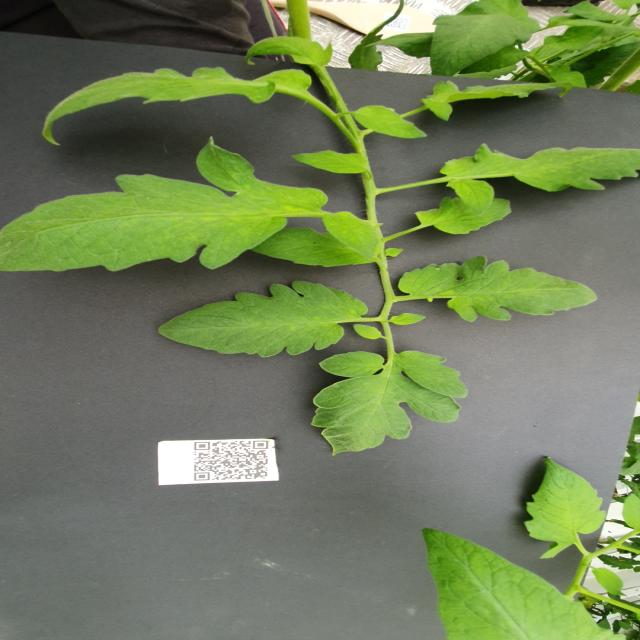Healthy Leaf: (423, 527, 628, 640), (43, 68, 315, 147), (158, 280, 370, 360), (312, 351, 470, 457), (440, 144, 640, 218), (399, 255, 601, 324), (526, 457, 608, 559), (431, 15, 540, 78), (420, 80, 573, 122), (415, 199, 514, 237), (324, 212, 380, 263), (245, 36, 335, 67), (354, 106, 430, 140), (293, 151, 370, 175), (592, 567, 628, 597)
